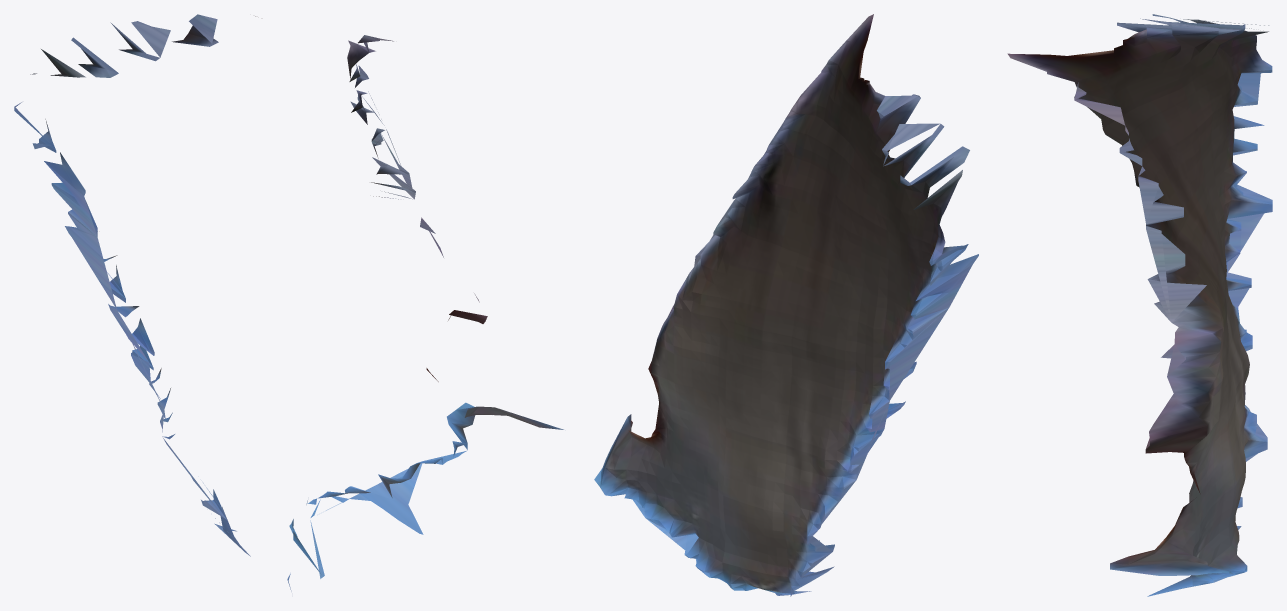
Rendered from observed-surface.glb.
3 renders of one model, left to right at view 1: azimuth 30°, elevation 25°; view 2: azimuth 150°, elevation 25°; view 3: azimuth 270°, elevation 25°, orthographic. The views are drawn at different scales.
Visible parts, largest first — view 1: geometry_0; view 2: geometry_0; view 3: geometry_0.
Part boxes in pixels (x1,y1,x2,y2): geometry_0: (14, 14, 563, 591); geometry_0: (594, 14, 978, 596); geometry_0: (1007, 14, 1272, 596).
Size of the model in its own units: 0.356 by 0.4539 by 0.2069.
1 material, 1 textured.
